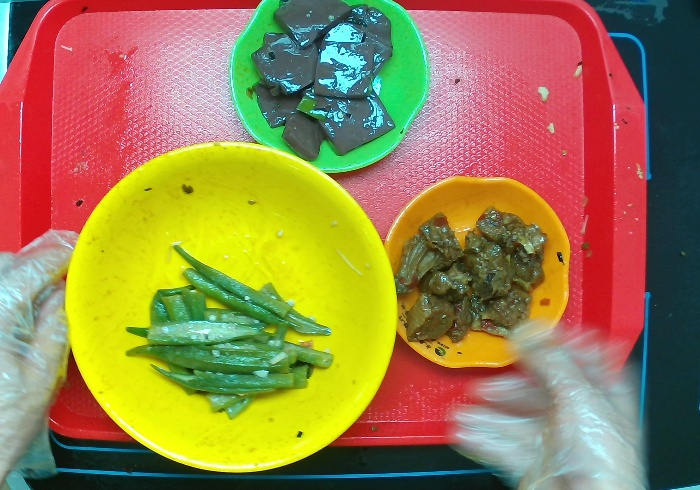YKMZ-Huang_Se_Tang_Wan: (64, 139, 397, 476)
YKMZ-Ju_Se_Ao_Bian_Wan: (382, 172, 571, 370)
YKMZ-Lv_Se_Ao_Bian_Wan: (229, 1, 431, 175)
